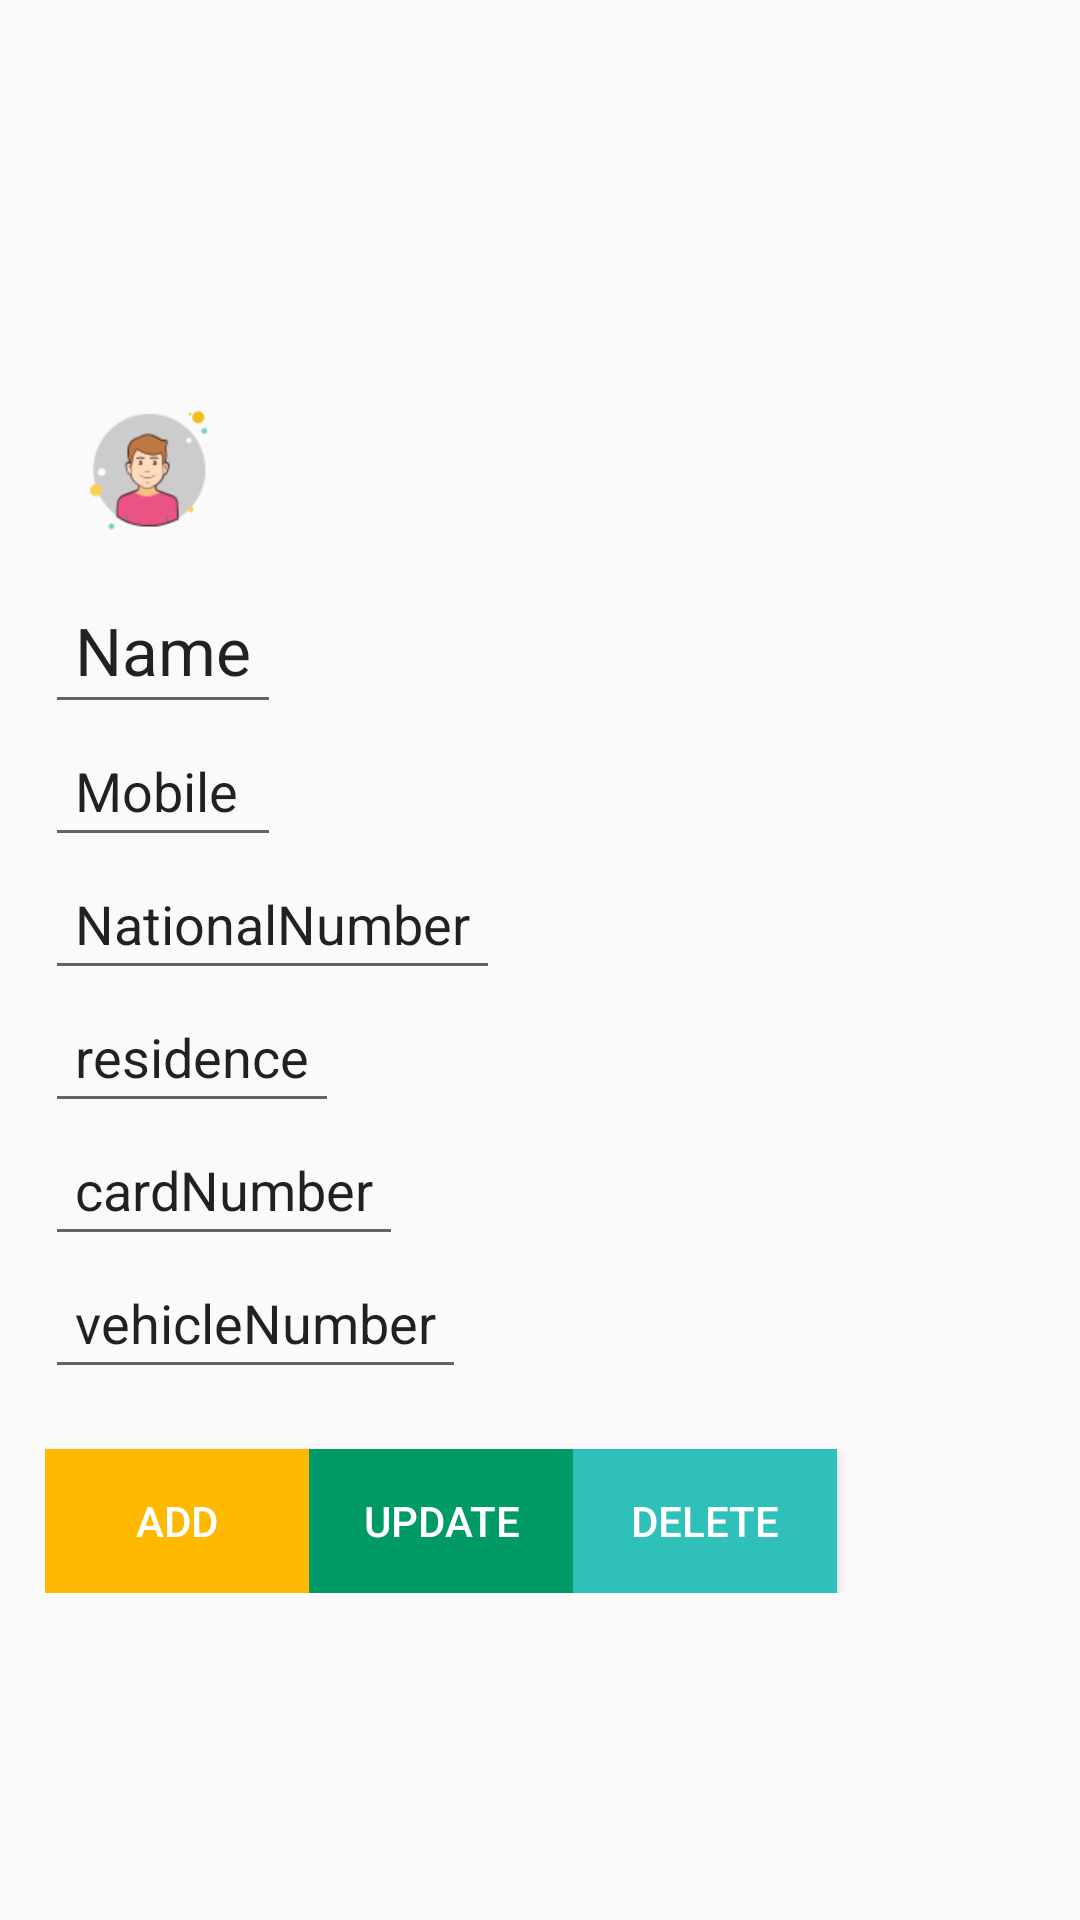

Where to tap for icons on this 1080 x 1920 app screen, as point (x, y):
user: point (148, 470)
